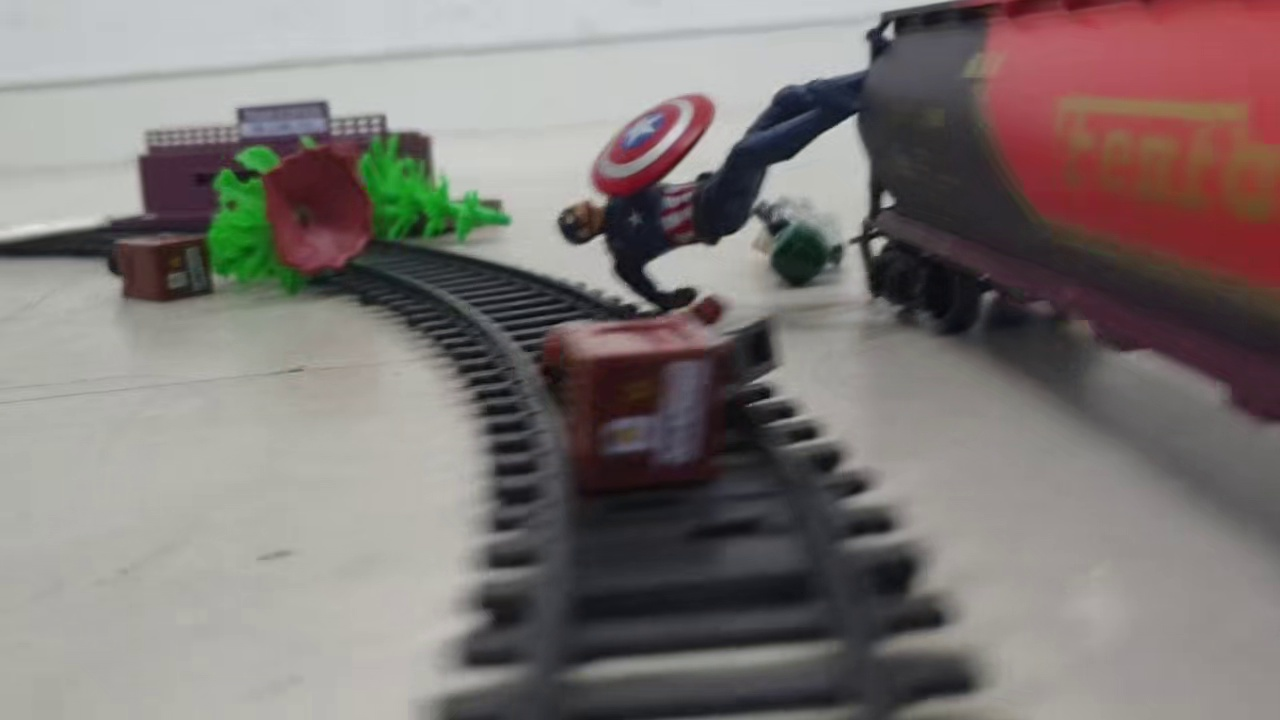box: (557, 316, 724, 497), (113, 229, 218, 305)
people: (554, 68, 869, 309), (544, 305, 783, 396), (750, 193, 844, 286)
tree: (208, 132, 376, 295), (351, 134, 509, 243)
